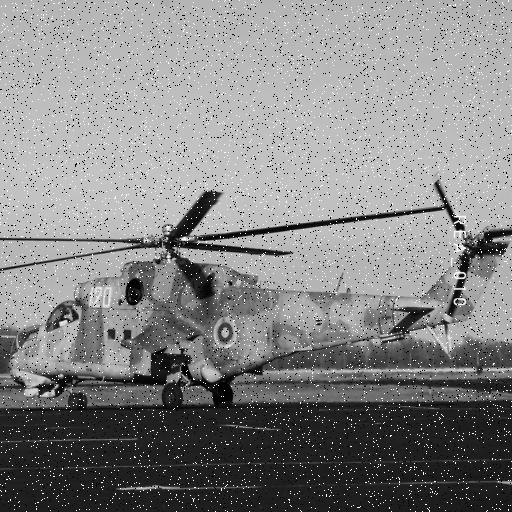helicopter: (1, 169, 512, 422)
